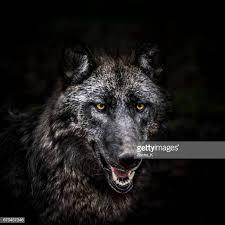Wolf: (19, 42, 211, 225)
